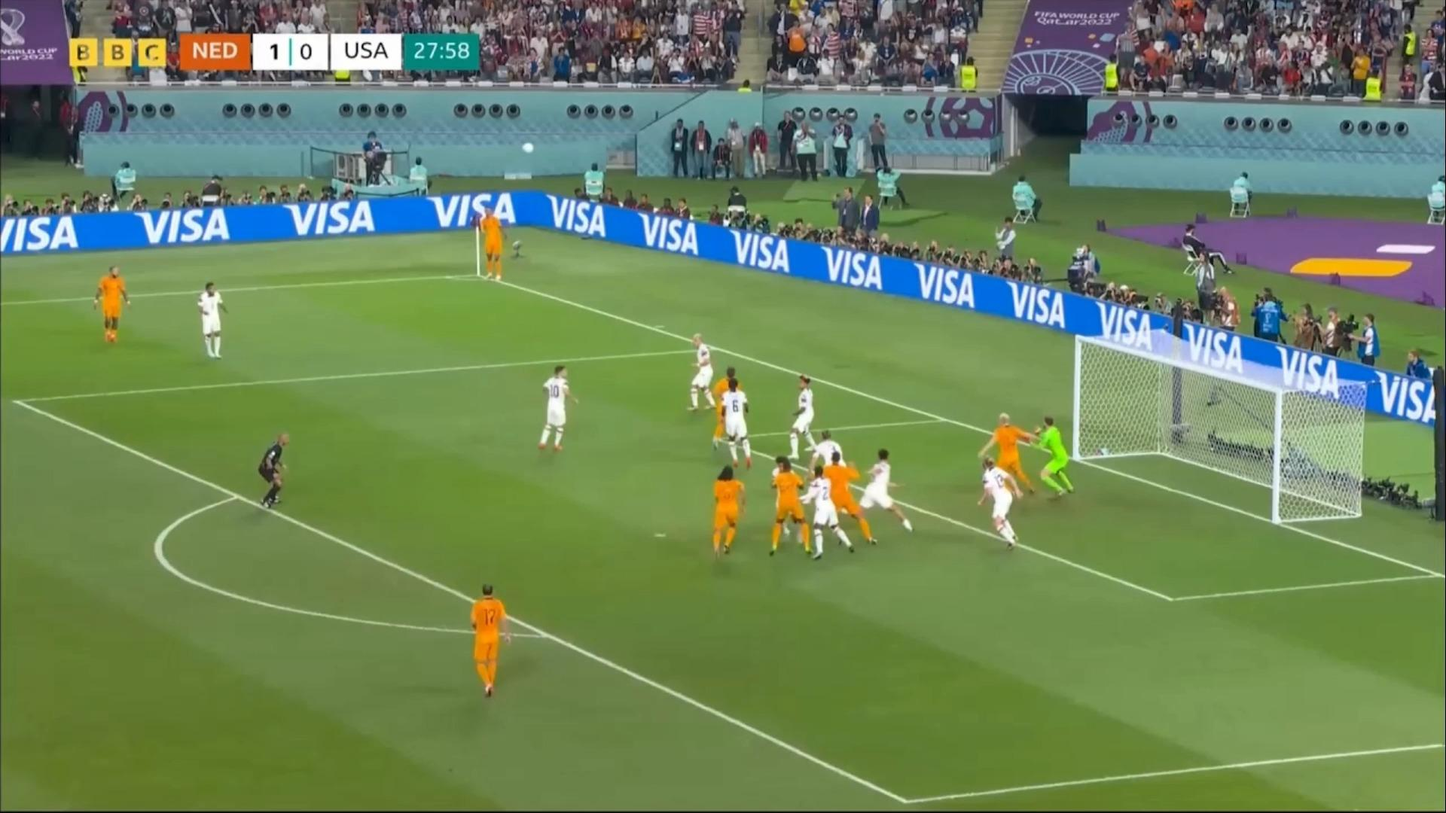Ball: (520, 141, 535, 155)
Player: (464, 583, 513, 705), (976, 412, 1043, 500), (814, 454, 878, 544), (861, 446, 915, 538), (807, 471, 856, 563), (978, 456, 1023, 553), (772, 465, 816, 558), (536, 361, 577, 459), (707, 468, 748, 563), (787, 372, 825, 465), (93, 262, 133, 348), (1034, 416, 1076, 497), (472, 205, 515, 283), (811, 430, 850, 514), (192, 278, 228, 367), (772, 456, 807, 546), (722, 374, 752, 469), (687, 335, 720, 416), (711, 368, 742, 451)
Ref: (259, 430, 294, 510)
